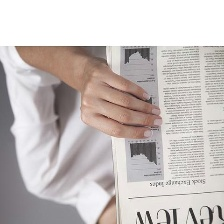news_paper: (101, 42, 224, 224)
